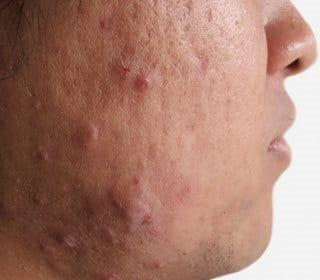Acne: (12, 0, 253, 280)
